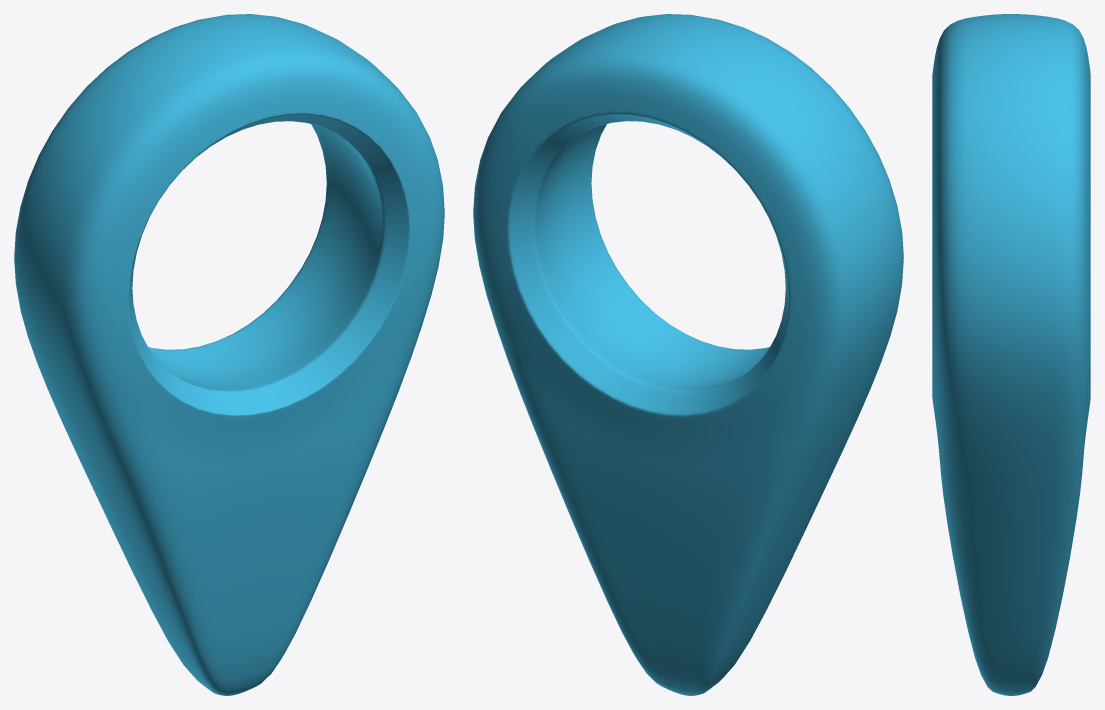
Rendered from new_arrow2.glb.
3 renders of one model, left to right at view 1: azimuth 30°, elevation 25°; view 2: azimuth 150°, elevation 25°; view 3: azimuth 270°, elevation 25°, orthographic.
Parts seen in each view (by area): view 1: logo_3D_pCube2; view 2: logo_3D_pCube2; view 3: logo_3D_pCube2.
Boxes of the visible parts, x1,y1,x2,y2 form: logo_3D_pCube2: (14,14,444,695); logo_3D_pCube2: (473,14,903,695); logo_3D_pCube2: (932,14,1090,695).
Size of the model in its own units: 1.91 by 3.11 by 0.6776.
